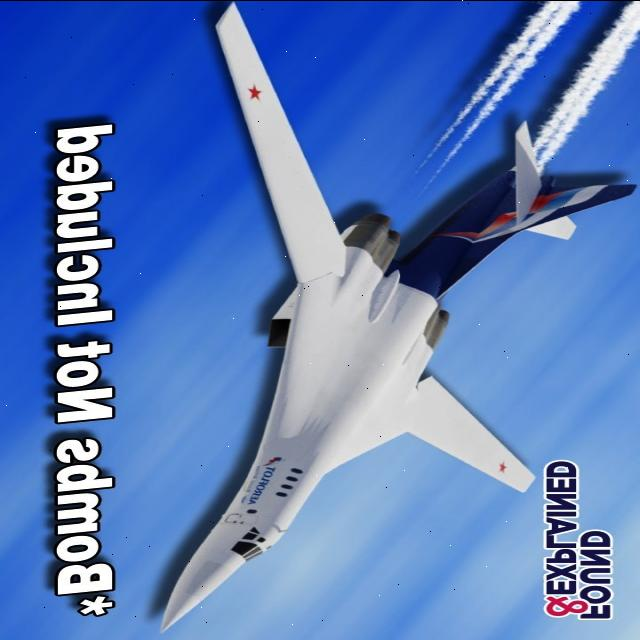Tu160: (153, 0, 638, 640)
